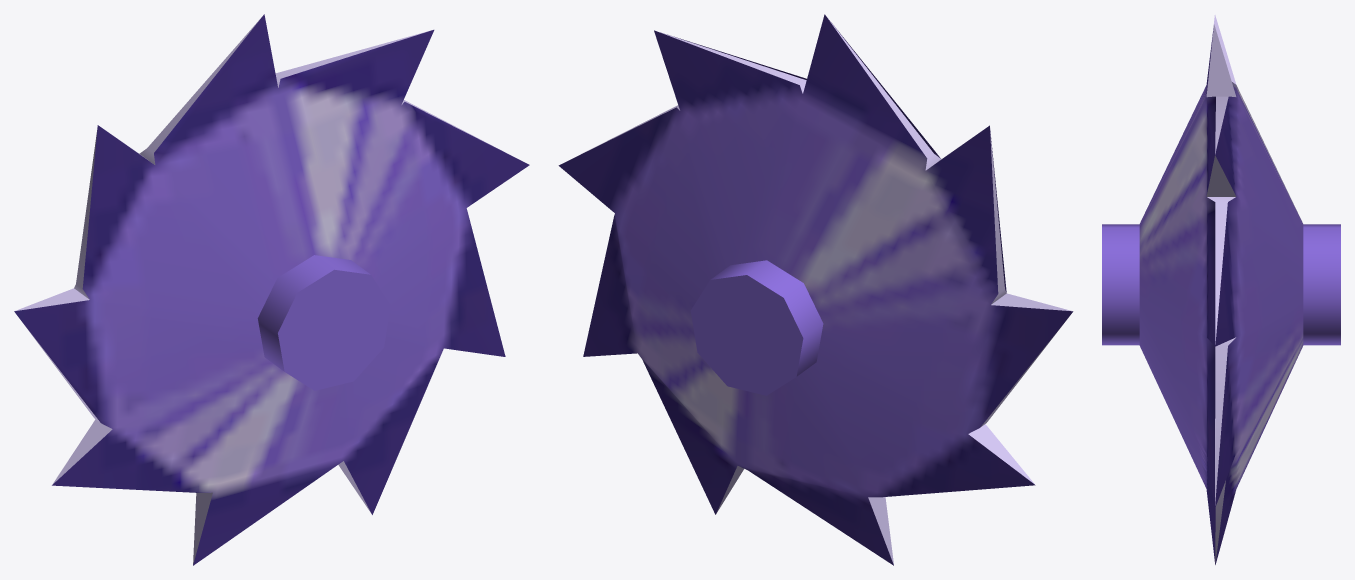
The model's file is modelwheel (merge).fbx.
3 views of the same model, side by side, from view 1: azimuth 30°, elevation 25°; view 2: azimuth 150°, elevation 25°; view 3: azimuth 270°, elevation 25° (orthographic). The views are drawn at different scales.
Visible parts, largest first — view 1: modelwheel; view 2: modelwheel; view 3: modelwheel.
Part boxes in pixels (x1,y1,x2,y2): modelwheel: (14,14,529,565); modelwheel: (558,14,1073,565); modelwheel: (1102,15,1340,564).
Bounding box in the file's own units: 0.9577 × 0.9494 × 0.4115.
Materials: 1 (1 with a texture image).
